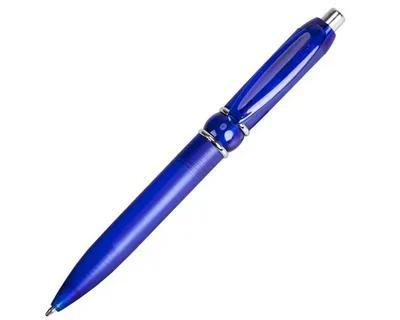pen-pencil: (46, 9, 341, 314)
